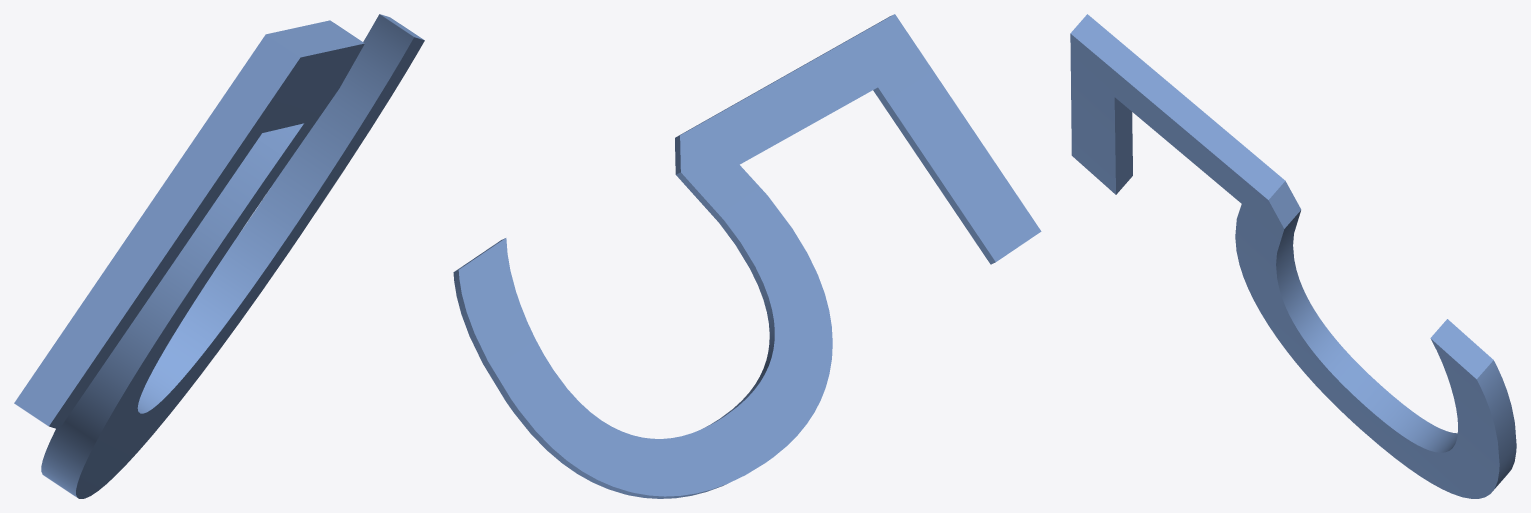
Rendered from New_Number_5.gltf.
3 renders of one model, left to right at view 1: azimuth 30°, elevation 25°; view 2: azimuth 150°, elevation 25°; view 3: azimuth 270°, elevation 25°, orthographic. The views are drawn at different scales.
Parts seen in each view (by area): view 1: Part 356; view 2: Part 356; view 3: Part 356.
Part boxes in pixels (x1,y1,x2,y2): Part 356: (14, 14, 424, 498); Part 356: (453, 14, 1041, 498); Part 356: (1070, 14, 1516, 498).
Size of the model in its own units: 0.00498 by 0.00445 by 0.00415.
